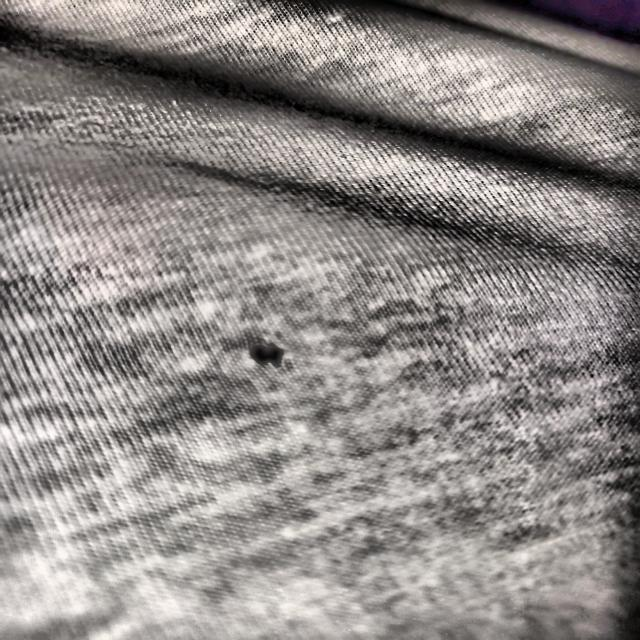cut: (245, 332, 288, 374)
